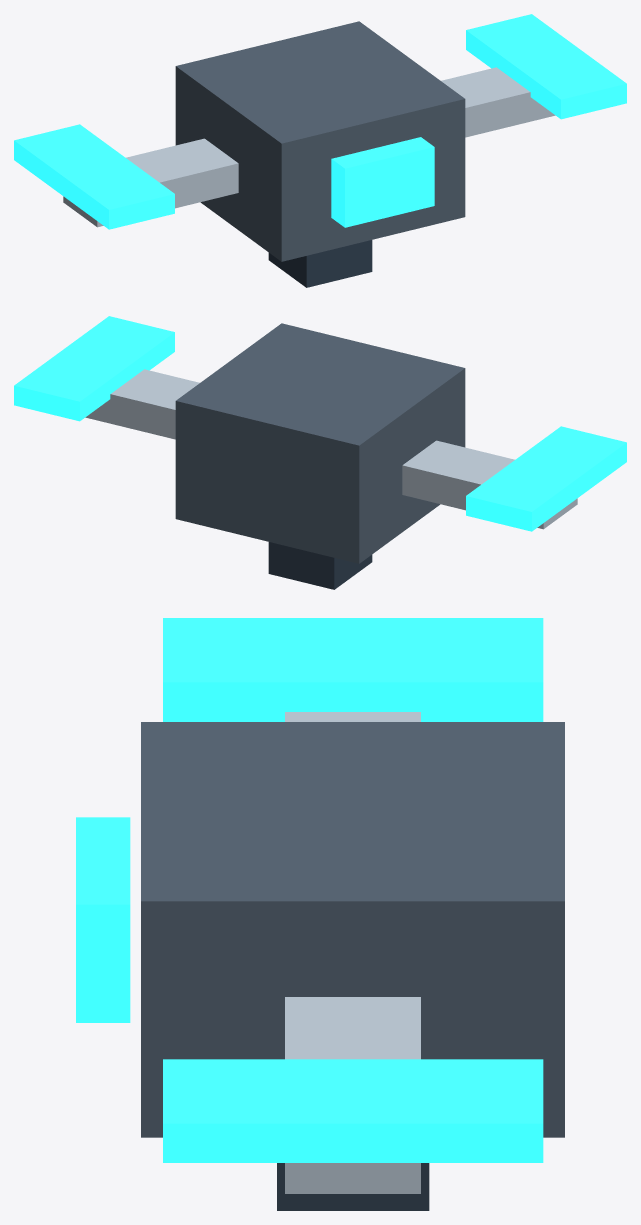
Rendered from drone-iris.glb.
3 renders of one model, top to bottom at view 1: azimuth 30°, elevation 25°; view 2: azimuth 150°, elevation 25°; view 3: azimuth 270°, elevation 25°, orthographic. The views are drawn at different scales.
Visible parts, largest first — view 1: Core, RotorL, RotorR, Eye, WingL, WingR, Bottom; view 2: Core, RotorL, RotorR, WingL, WingR, Bottom; view 3: Core, RotorR, RotorL, WingR, Eye, Bottom, WingL.
Boxes of the visible parts, <box> form: Core: <box>175,21,465,261</box>; RotorL: <box>14,124,174,229</box>; RotorR: <box>466,14,626,119</box>; Eye: <box>331,137,434,227</box>; WingL: <box>63,138,238,227</box>; WingR: <box>441,67,555,137</box>; Bottom: <box>268,240,372,287</box>; Core: <box>175,323,465,563</box>; RotorL: <box>466,426,626,531</box>; RotorR: <box>14,316,174,421</box>; WingL: <box>402,440,577,529</box>; WingR: <box>85,369,199,439</box>; Bottom: <box>268,542,372,589</box>; Core: <box>141,722,564,1137</box>; RotorR: <box>163,1059,543,1162</box>; RotorL: <box>163,618,543,721</box>; WingR: <box>285,997,420,1193</box>; Eye: <box>76,817,130,1022</box>; Bottom: <box>277,1163,429,1210</box>; WingL: <box>285,712,420,721</box>.
Size of the model in its own units: 2.2 by 0.745 by 0.9.
